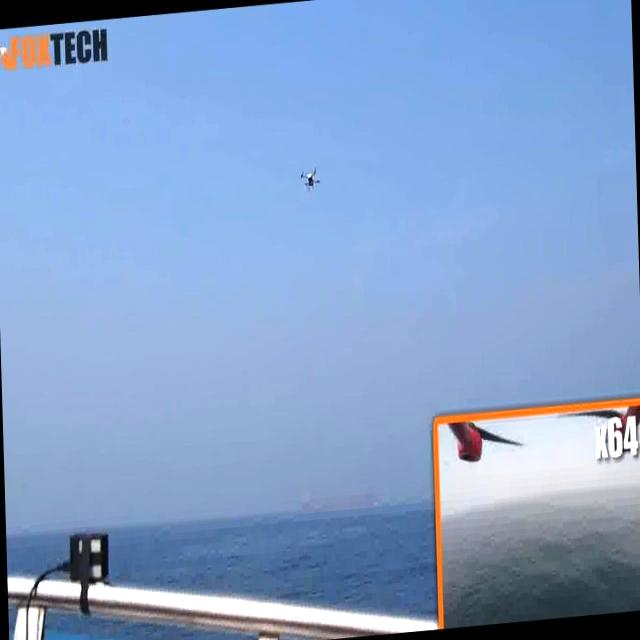drone: (300, 164, 322, 195)
